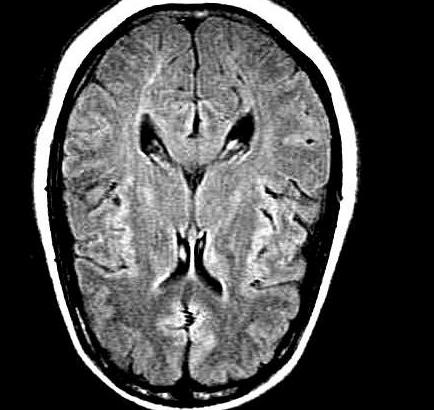Normal_Brain: (1, 1, 434, 410)
